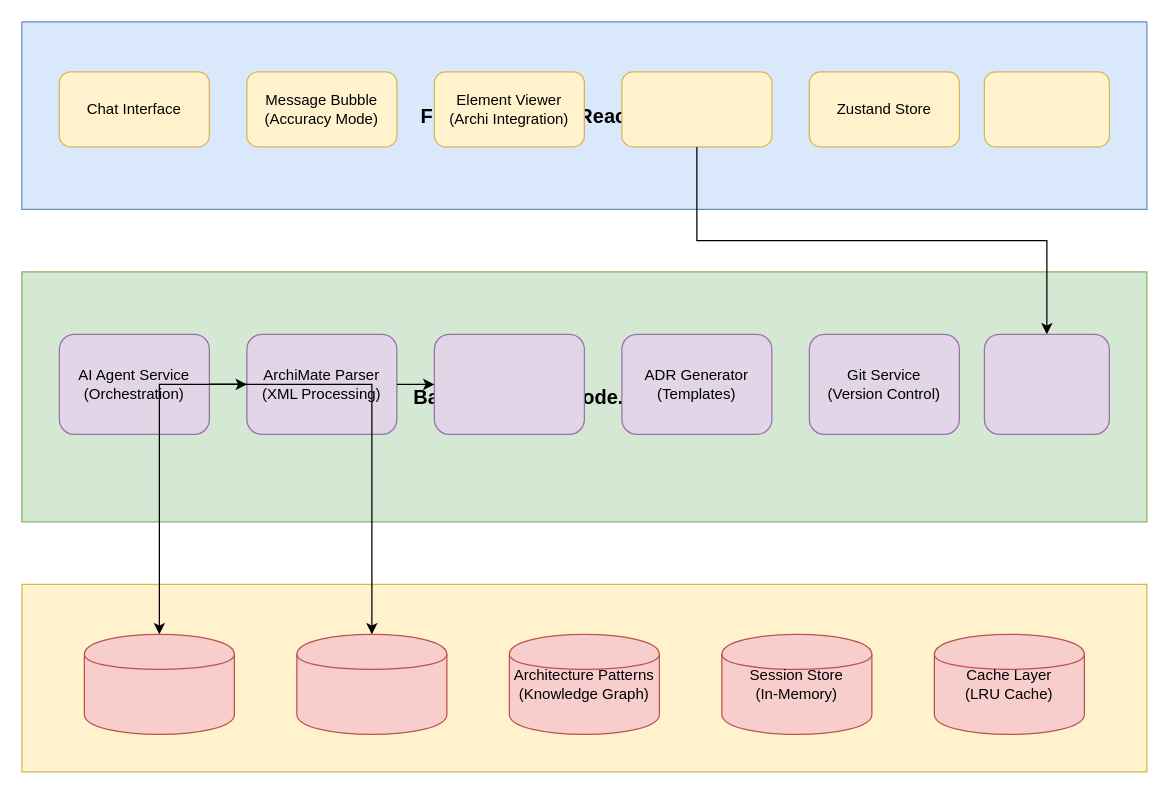
This 1169x794 diagram has some shape labels left out. The box of each missing label's shape, as (x1, y1, x2, y2) in pixels:
ArchiMetal Models (.archimate files): (83, 633, 234, 734)
Data & Knowledge Layer: (21, 583, 1147, 772)
Knowledge Base (AInsteinKB.md): (296, 633, 447, 734)
Precise Response (Accuracy Engine): (433, 333, 584, 434)
REST API Client: (983, 71, 1109, 147)
WebSocket Client: (621, 71, 772, 147)
WebSocket Server (Socket.io): (983, 333, 1109, 434)
